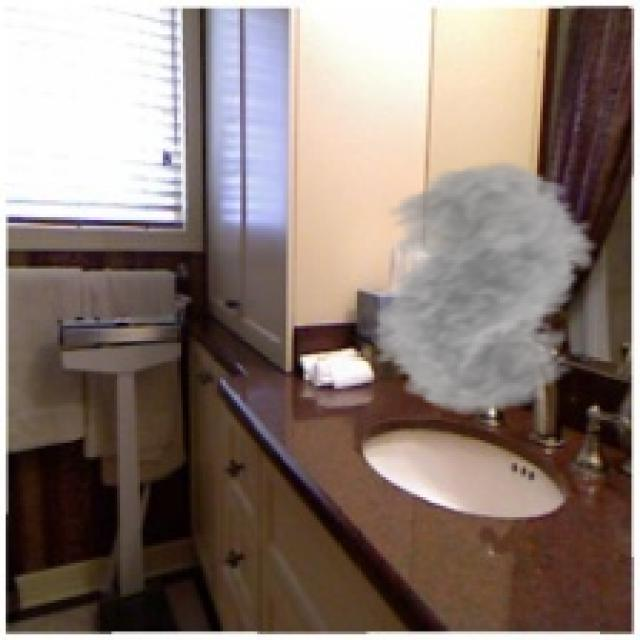smoke: (343, 160, 617, 417)
